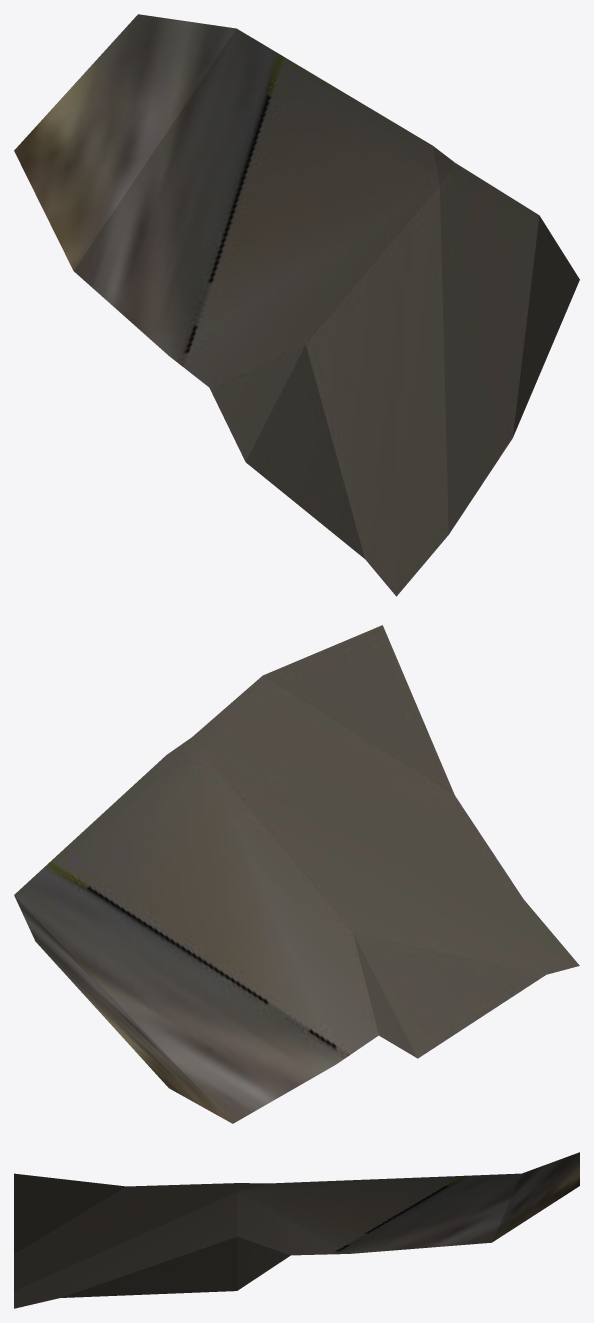
3 views of the same model, one above another, from view 1: azimuth 30°, elevation 25°; view 2: azimuth 150°, elevation 25°; view 3: azimuth 270°, elevation 25° (orthographic). The views are drawn at different scales.
Size of the model in its own units: 0.2769 by 0.3289 by 0.8373.
Materials: 1 (1 with a texture image).
